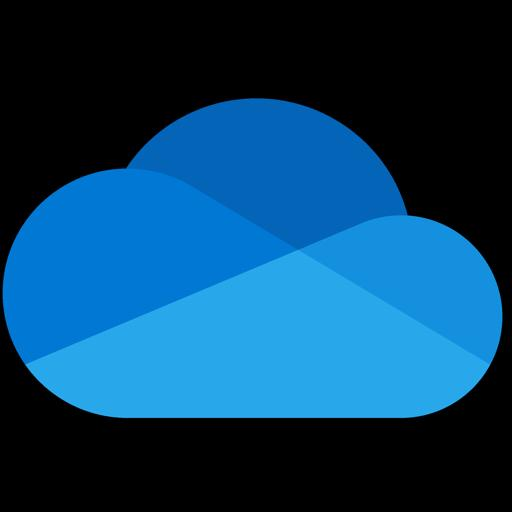Microsoft OneDrive: (0, 90, 512, 422)
